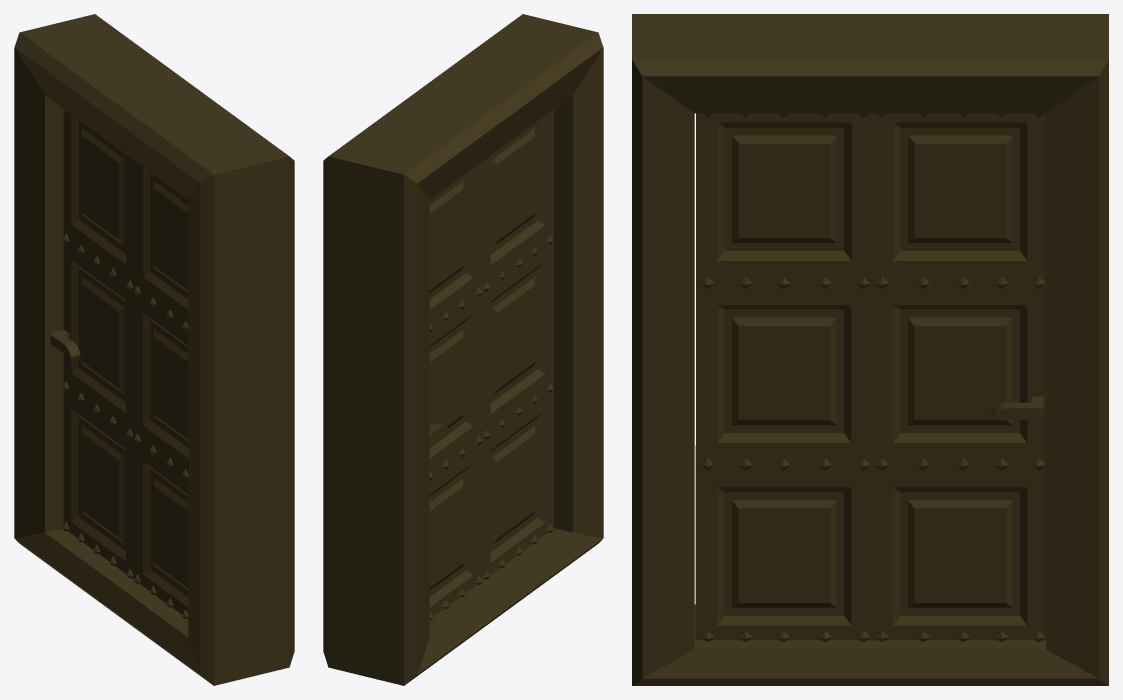
The model's file is door.fbx.
3 views of the same model, side by side, from view 1: azimuth 30°, elevation 25°; view 2: azimuth 150°, elevation 25°; view 3: azimuth 270°, elevation 25° (orthographic). The views are drawn at different scales.
Parts seen in each view (by area): view 1: door; view 2: door; view 3: door.
Part boxes in pixels (x1,y1,x2,y2): door: (14, 14, 294, 685); door: (323, 14, 603, 685); door: (632, 14, 1108, 685).
Bounding box in the file's own units: 0.2688 × 1.4 × 0.9637.
